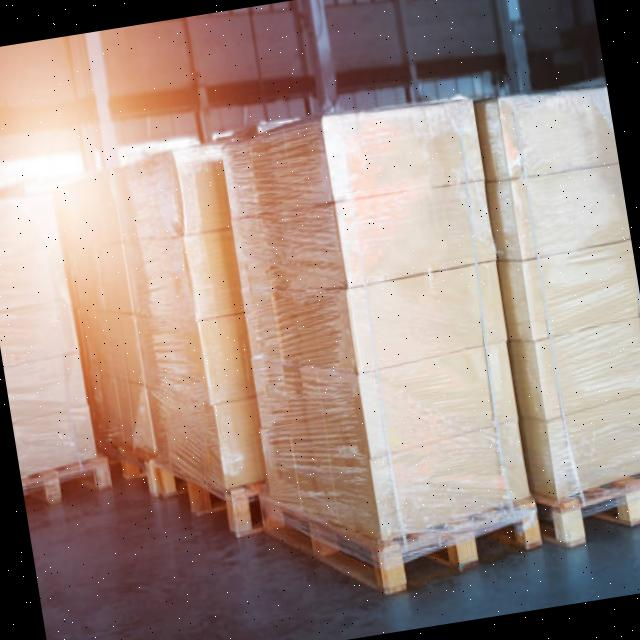Wooden-Pallets: (21, 445, 640, 599), (250, 488, 552, 599), (154, 457, 242, 547), (545, 473, 640, 555), (22, 445, 123, 504)
